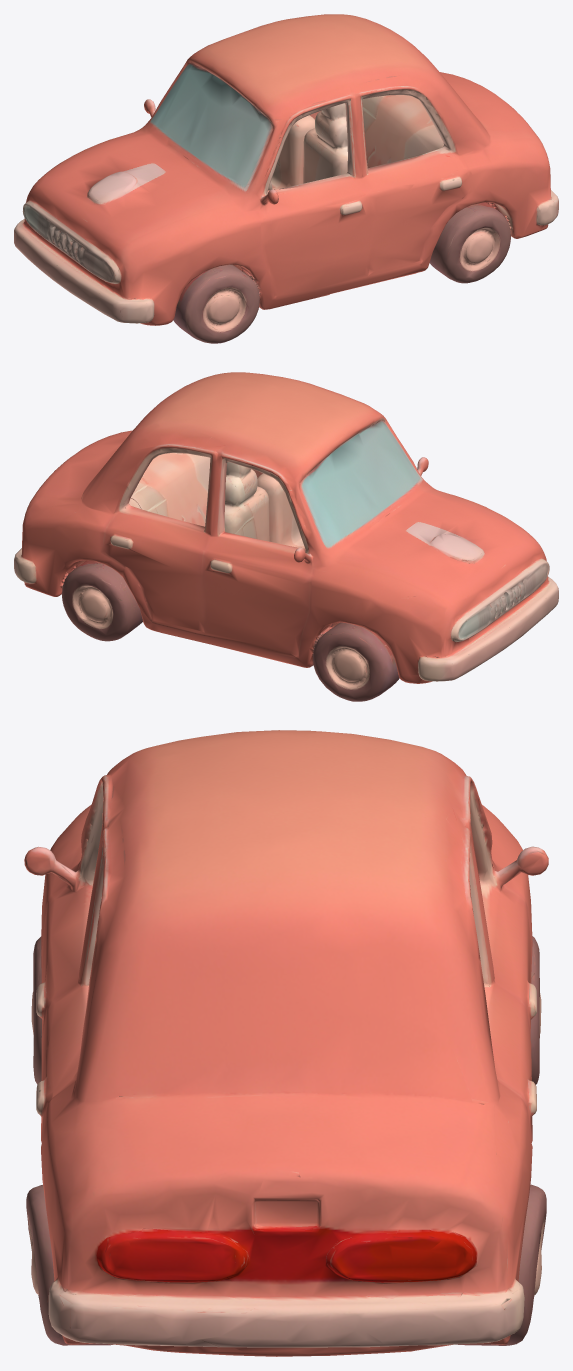
The model's file is b3d07fca-ccdd-4f41-8dbd-3954958e22c3.glb.
3 views of the same model, one above another, from view 1: azimuth 30°, elevation 25°; view 2: azimuth 150°, elevation 25°; view 3: azimuth 270°, elevation 25° (orthographic). The views are drawn at different scales.
Parts seen in each view (by area): view 1: Mesh_0; view 2: Mesh_0; view 3: Mesh_0.
Boxes of the visible parts, x1,y1,x2,y2 form: Mesh_0: (14,14,558,343); Mesh_0: (14,372,558,701); Mesh_0: (24,730,548,1356).
Bounding box in the file's own units: 1.9 × 0.899 × 0.9469.
1 material, 1 textured.
